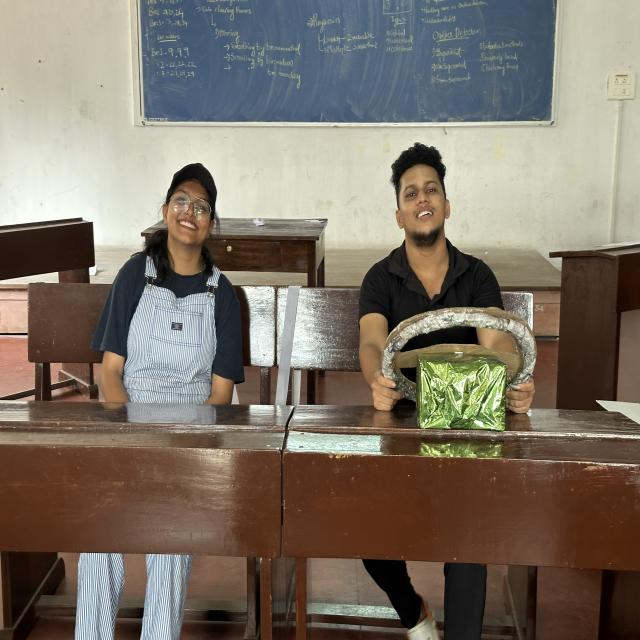no-seatbelt: (80, 252, 260, 409), (351, 238, 518, 406)
